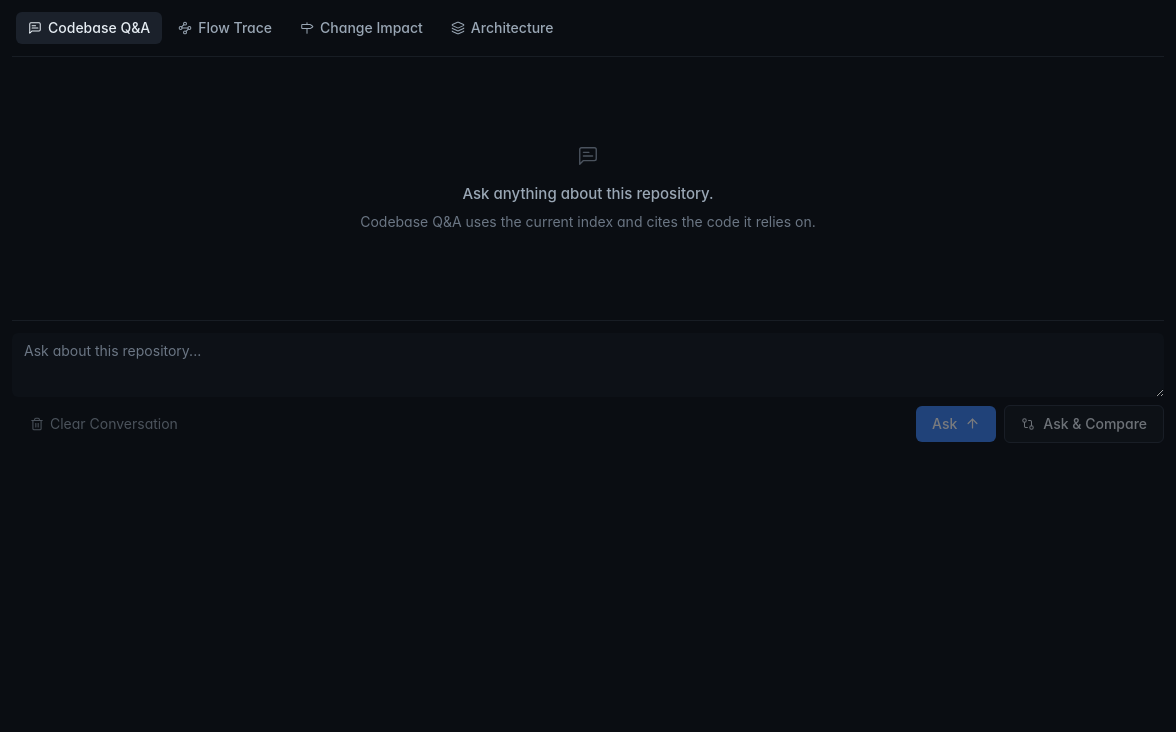
Test: analysis workspace › clears the shared client-side conversation in flow mode
Step 1. Click the tab "Flow Trace" → [225, 28], box x1=166 y1=12 x2=284 y2=44
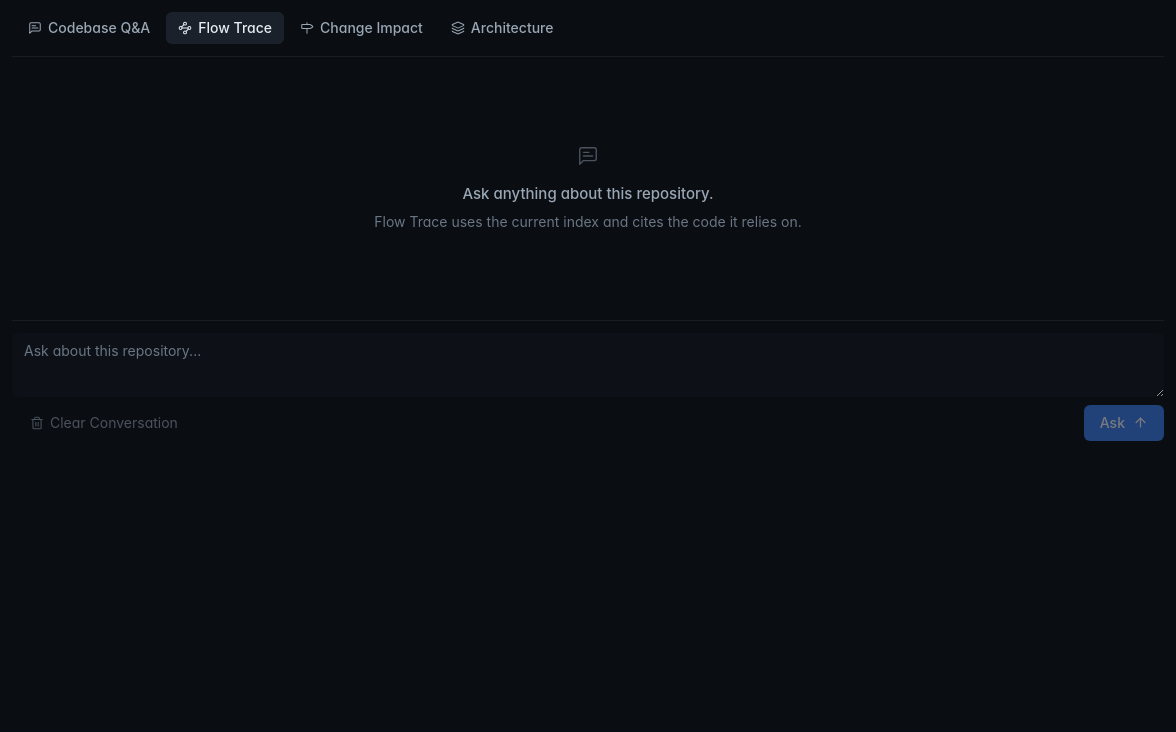
Step 2. Type "Clear this request" into the text box named "Question" → [588, 364], box x1=12 y1=332 x2=1164 y2=396
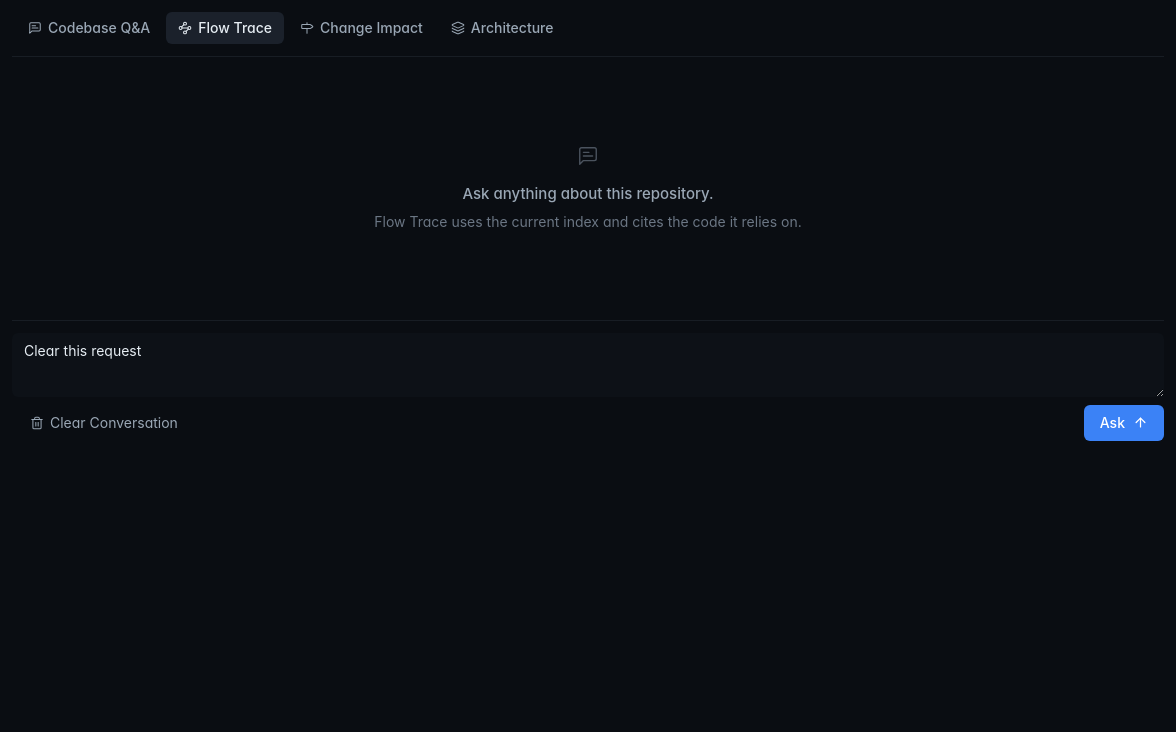
Step 3. Click the button "Ask" → [1124, 422], box x1=1084 y1=404 x2=1164 y2=440
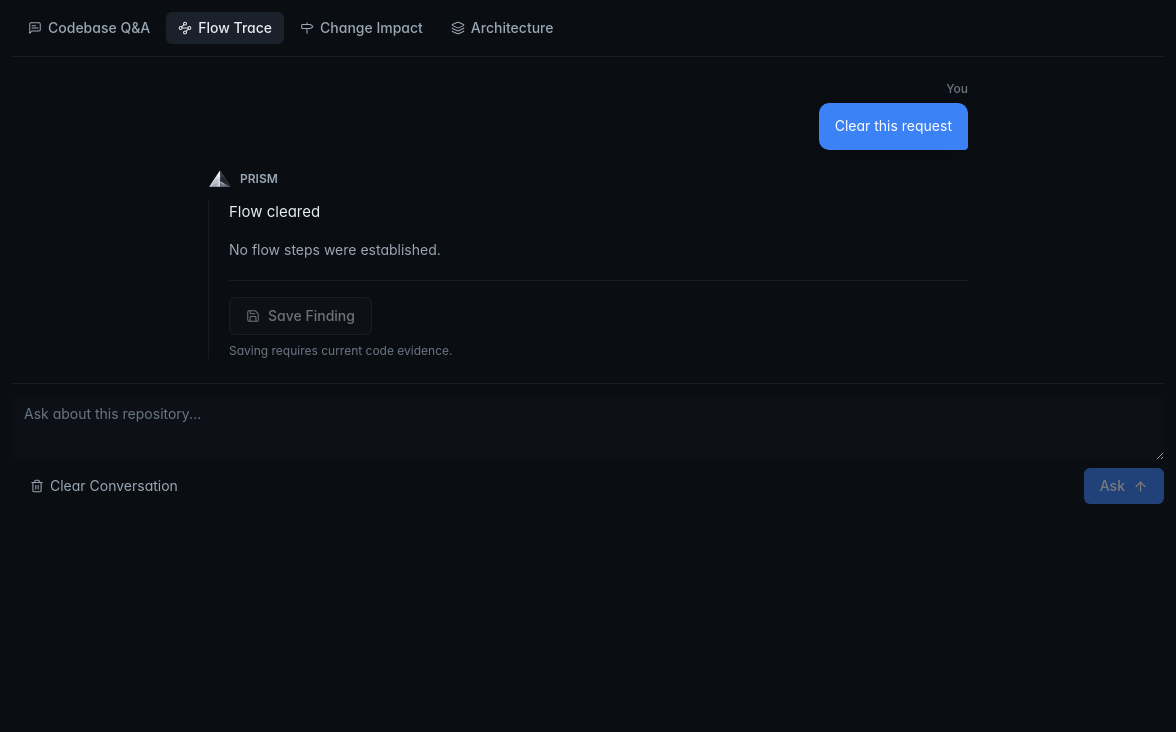
Now the text "Flow cleared" is shown, box x1=229 y1=202 x2=320 y2=221
Step 4. Click the button "Clear Conversation" → [104, 486], box x1=20 y1=470 x2=188 y2=502
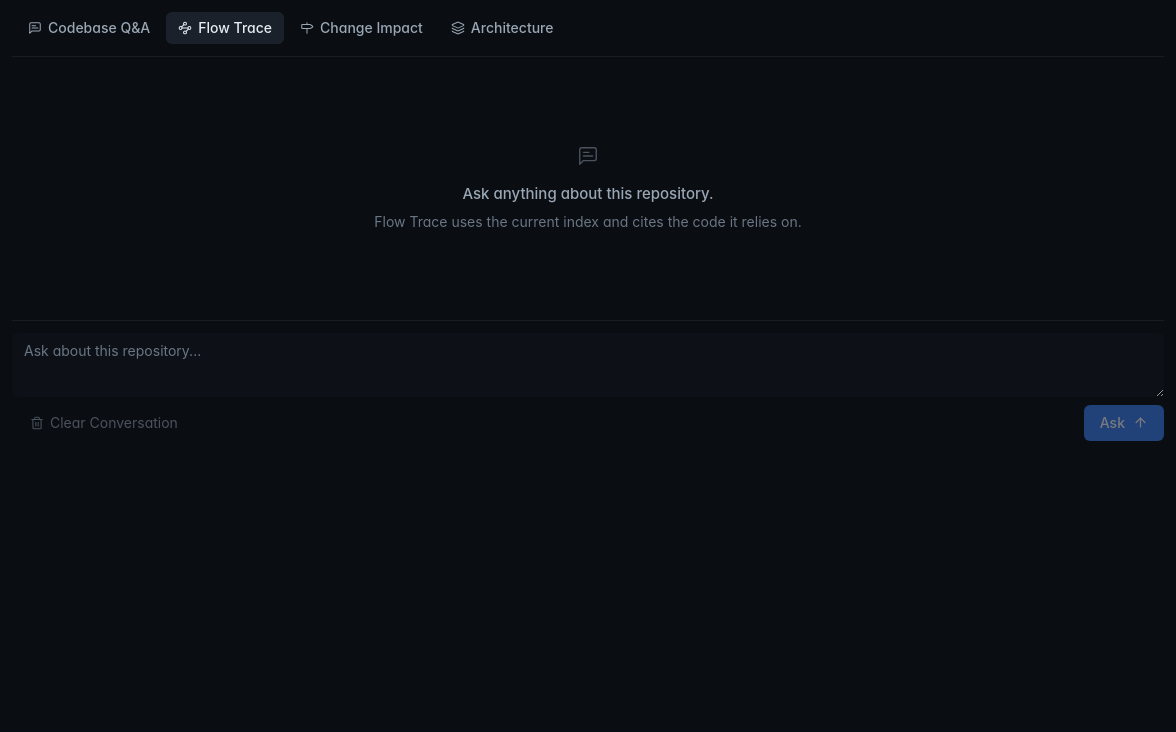
Now the text box named "Question" is empty, box x1=12 y1=332 x2=1164 y2=396
Now the text "Flow cleared" is gone
Now the text "Ask anything about this repository." is shown, box x1=462 y1=183 x2=714 y2=206
